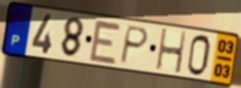0: (186, 34, 213, 78)
4: (30, 11, 55, 56)
8: (58, 16, 87, 60)
E: (87, 18, 123, 66)
H: (155, 28, 188, 76)
P: (118, 24, 151, 66)
